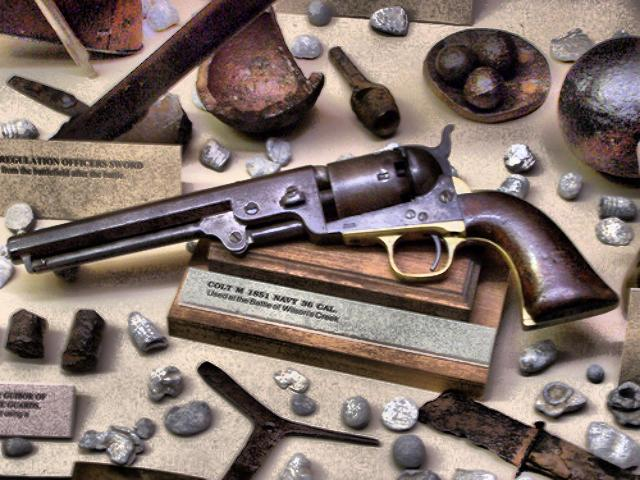pistol: (5, 122, 613, 322)
